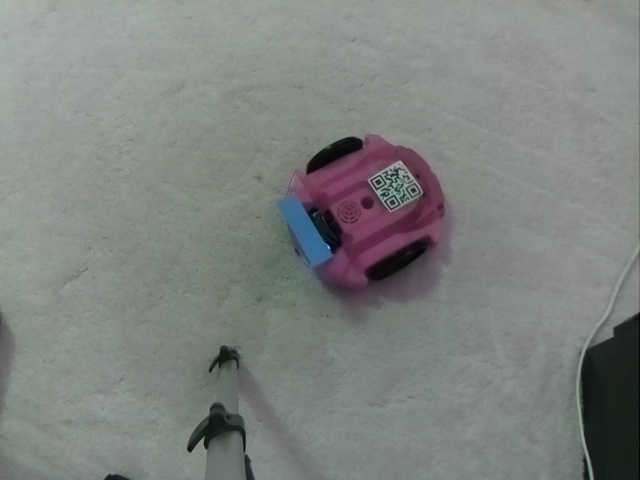chassis: (282, 121, 449, 287)
qr: (366, 157, 426, 210)
